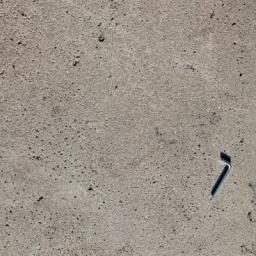FOD: (210, 155, 236, 203)
